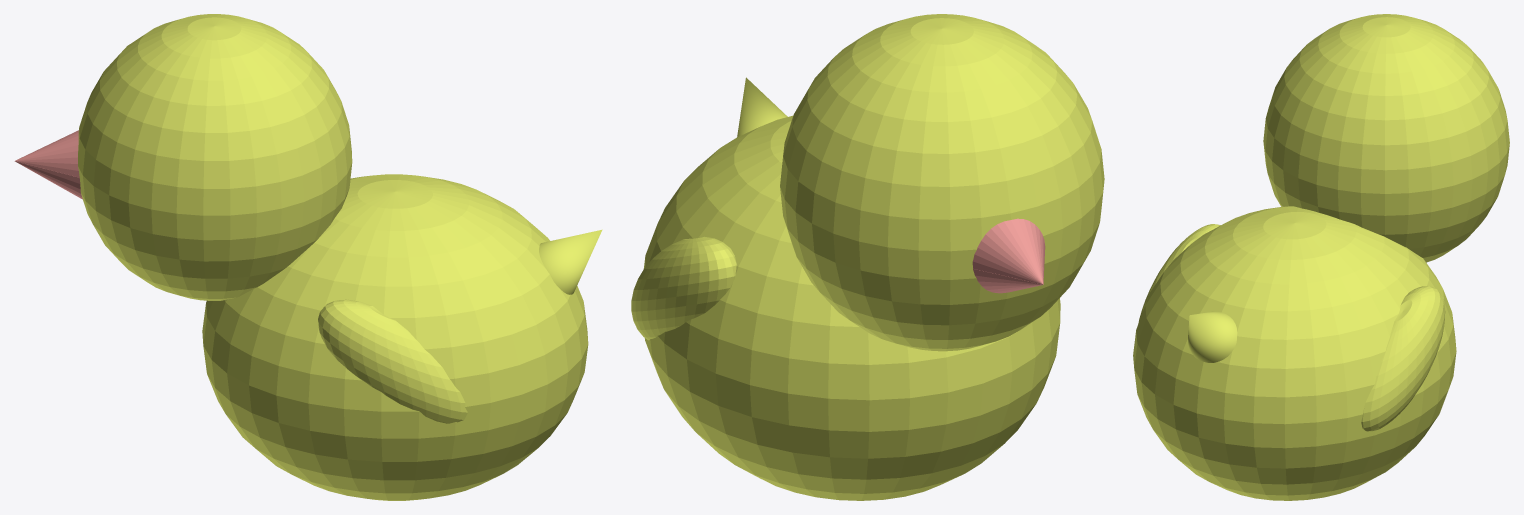
The model's file is bird.fbx.
3 renders of one model, left to right at view 1: azimuth 30°, elevation 25°; view 2: azimuth 150°, elevation 25°; view 3: azimuth 270°, elevation 25°, orthographic. The views are drawn at different scales.
Parts seen in each view (by area): view 1: Bird; view 2: Bird; view 3: Bird.
Boxes of the visible parts, x1,y1,x2,y2 form: Bird: (14, 14, 602, 500); Bird: (631, 14, 1104, 500); Bird: (1133, 14, 1509, 500).
Bounding box in the file's own units: 91.7 × 90.85 × 77.14.
